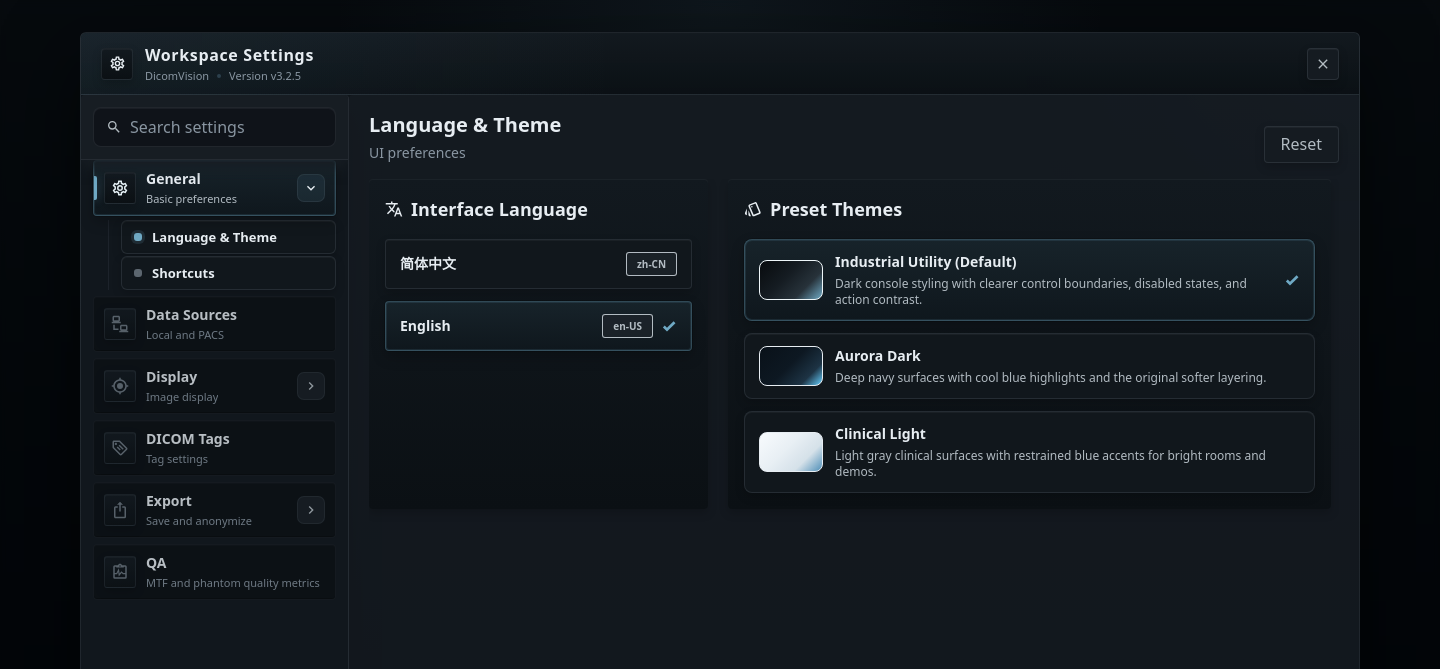
SidebarSettingsDialog viewport layout settings › shows English viewport layout copy without toolbar placement choices
Click the button with class "settings-nav-item" showing "Display Image display": (214, 386) [93, 358, 336, 414]
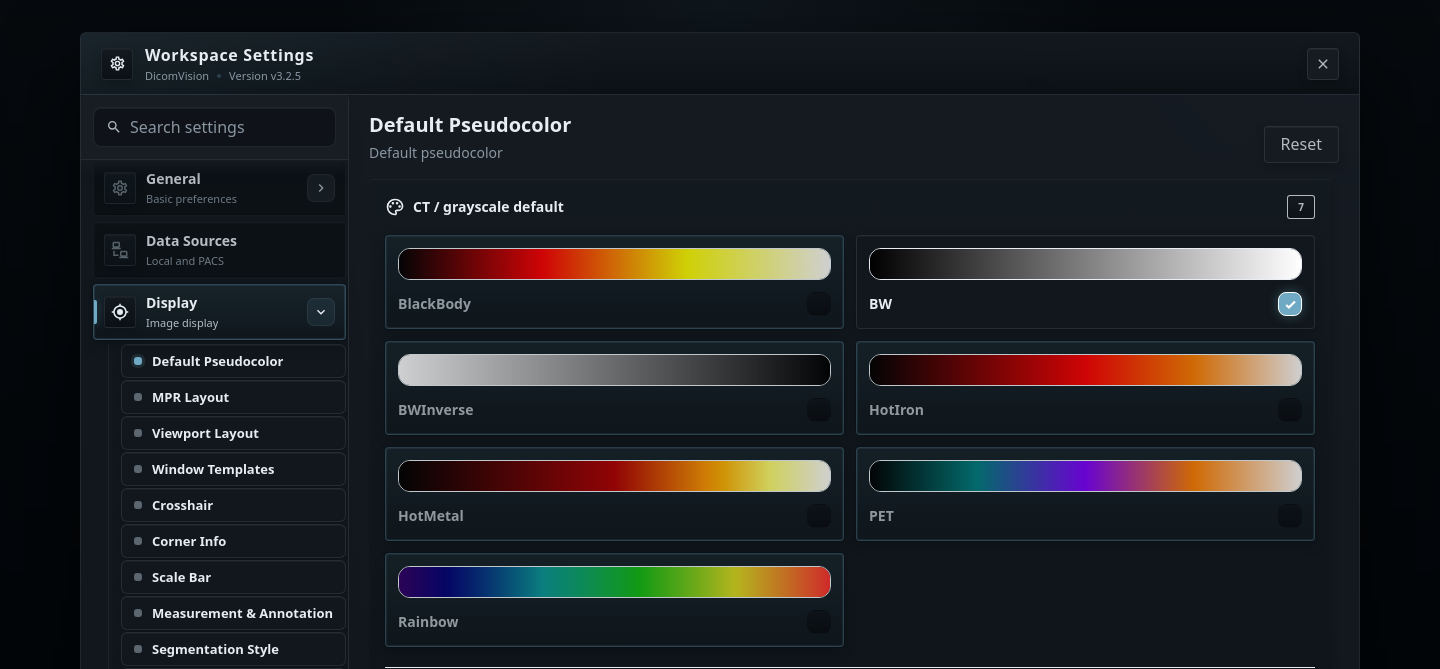
Now the button with class "settings-nav-subitem" showing "Viewport Layout" is shown
Click the button with class "settings-nav-subitem" showing "Viewport Layout": (234, 433) [121, 416, 346, 450]
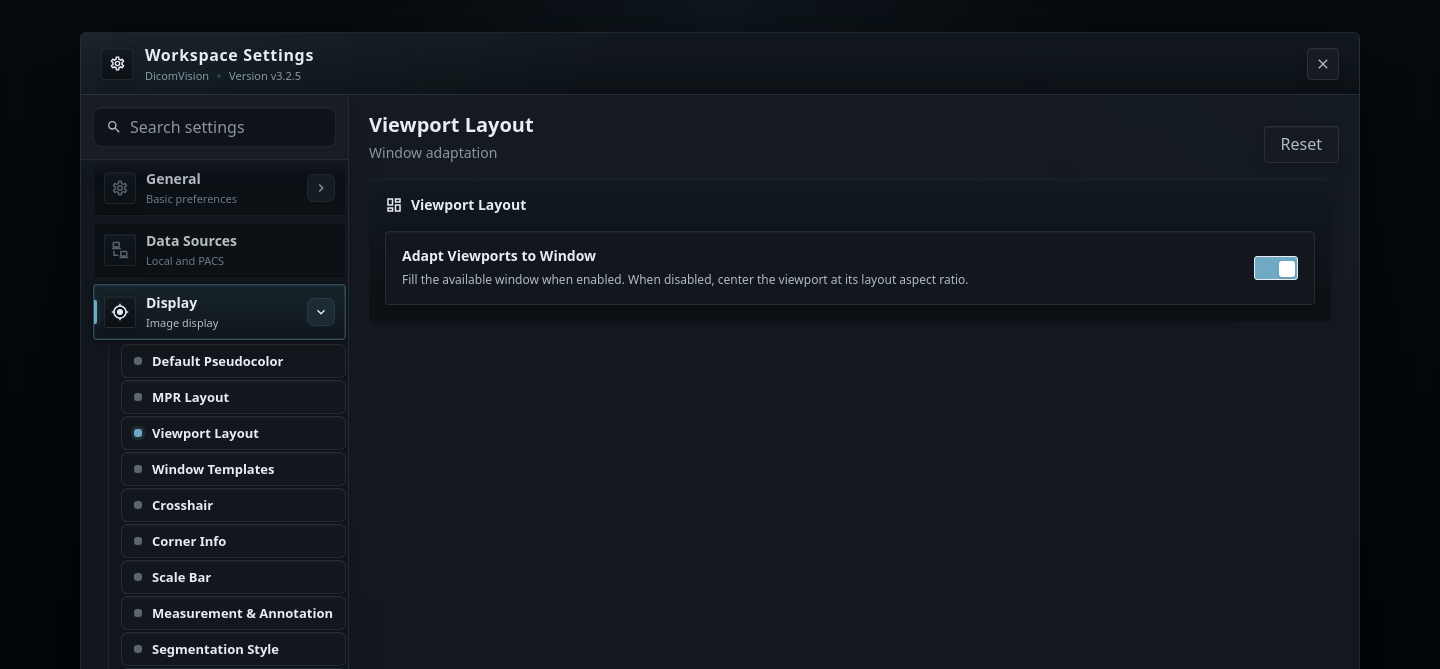
Now the text "Viewport Layout" is shown, box [152, 423, 259, 443]
Now the text "Adapt Viewports to Window" is shown, box [402, 246, 596, 265]
